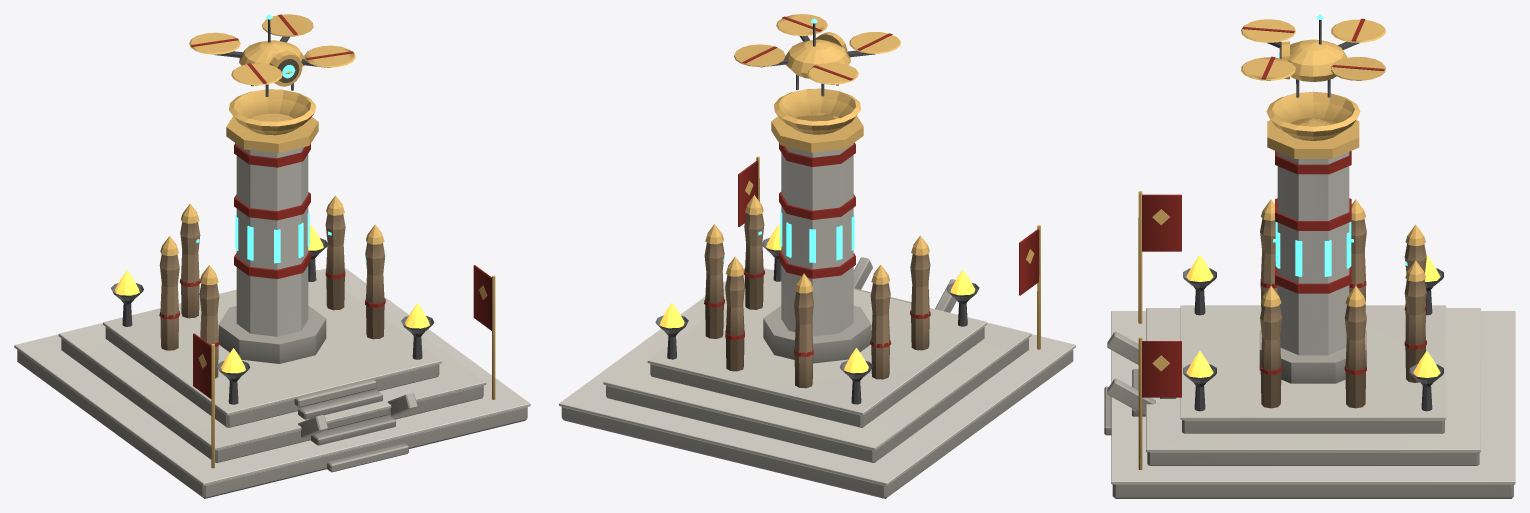
File: bld_chudo.glb
3 renders of one model, left to right at view 1: azimuth 30°, elevation 25°; view 2: azimuth 150°, elevation 25°; view 3: azimuth 270°, elevation 25°, orthographic. The views are drawn at different scales.
Visible parts, largest first — view 1: chudo; view 2: chudo; view 3: chudo.
Part boxes in pixels (x1,y1,x2,y2): chudo: [14, 14, 530, 498]; chudo: [559, 14, 1075, 498]; chudo: [1104, 14, 1515, 498].
Bounding box in the file's own units: 2.92 × 3.2 × 2.97.
